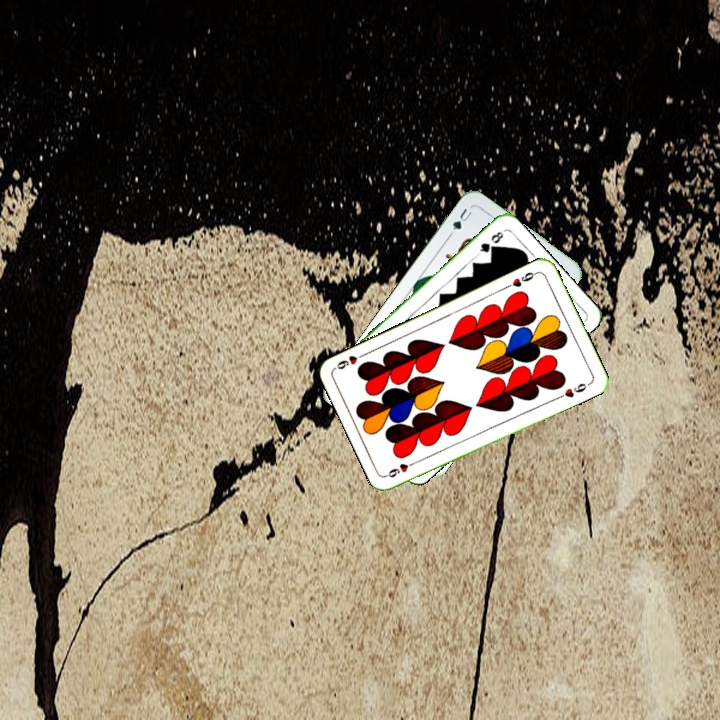G8: (473, 227, 506, 258)
GU: (445, 204, 475, 239)
H9: (383, 456, 421, 480), (502, 268, 540, 291)
